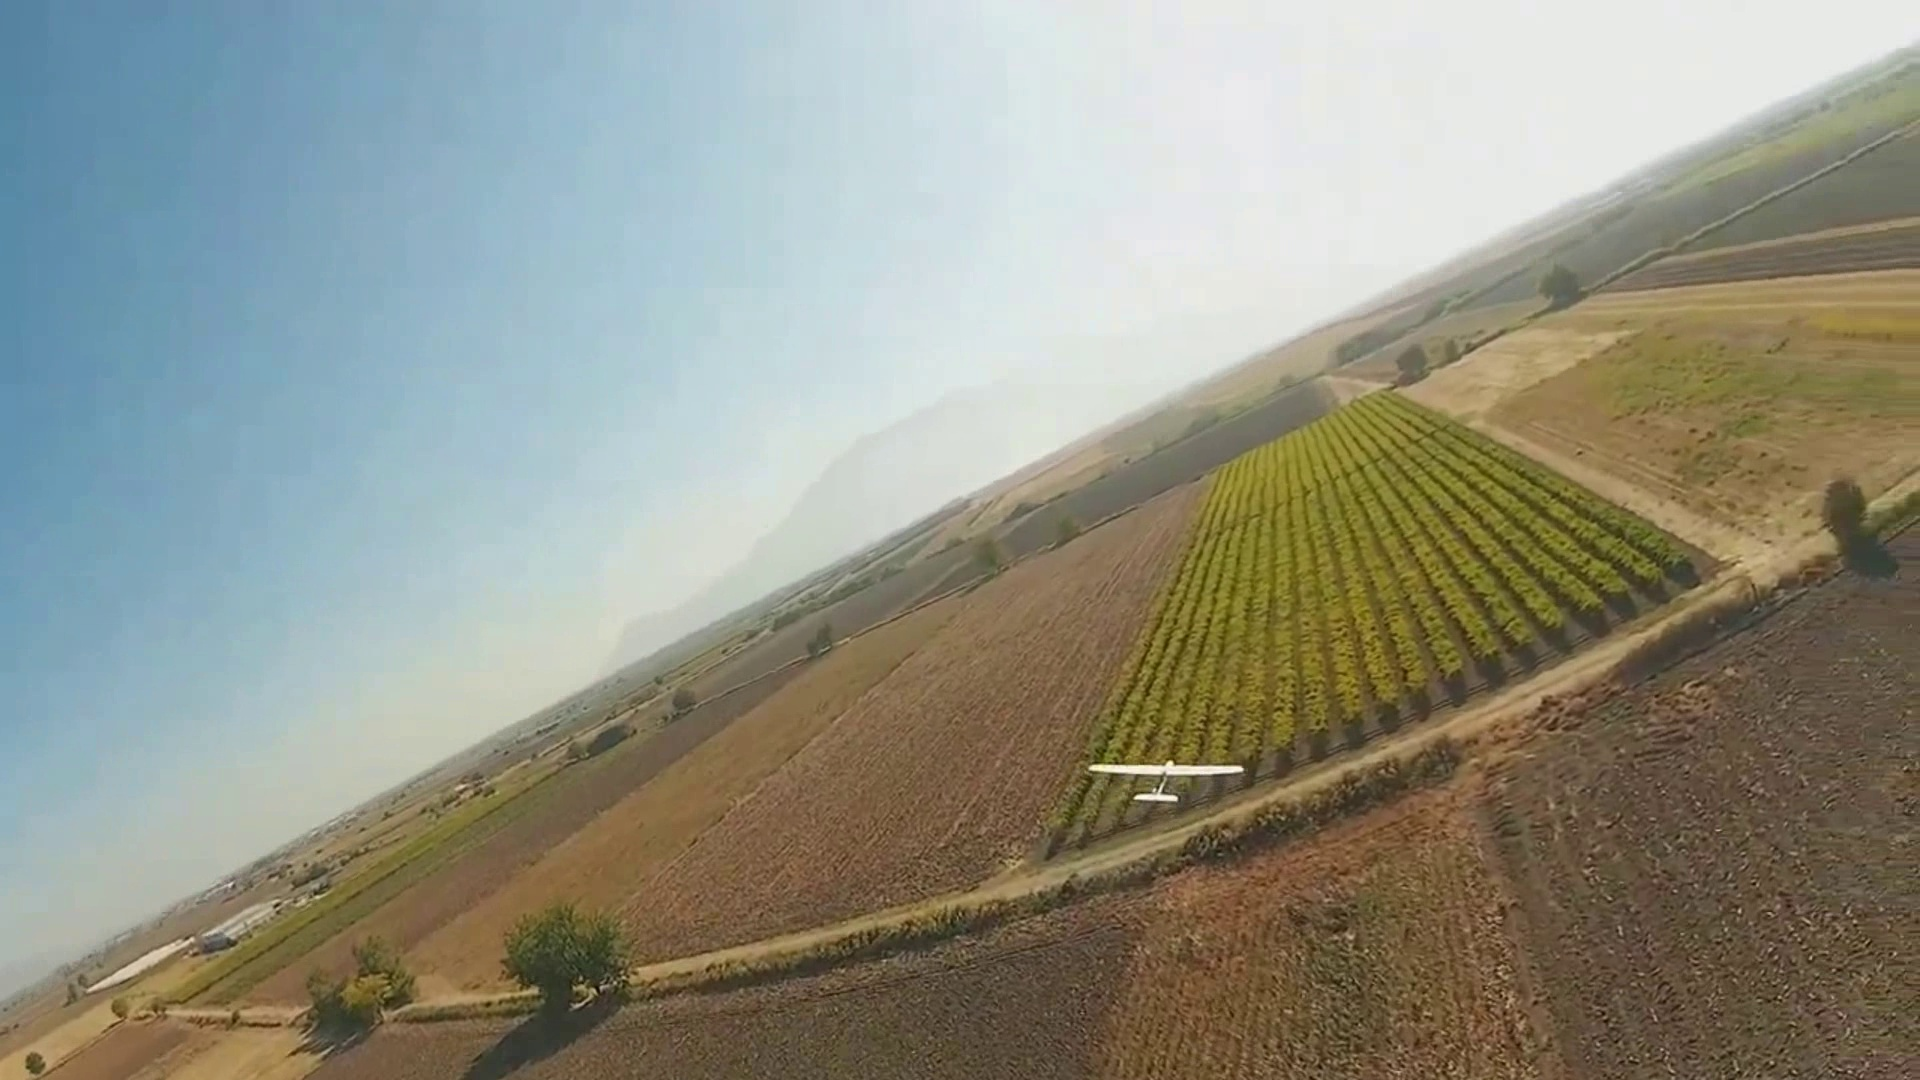airplane: (47, 44, 1920, 1016)
